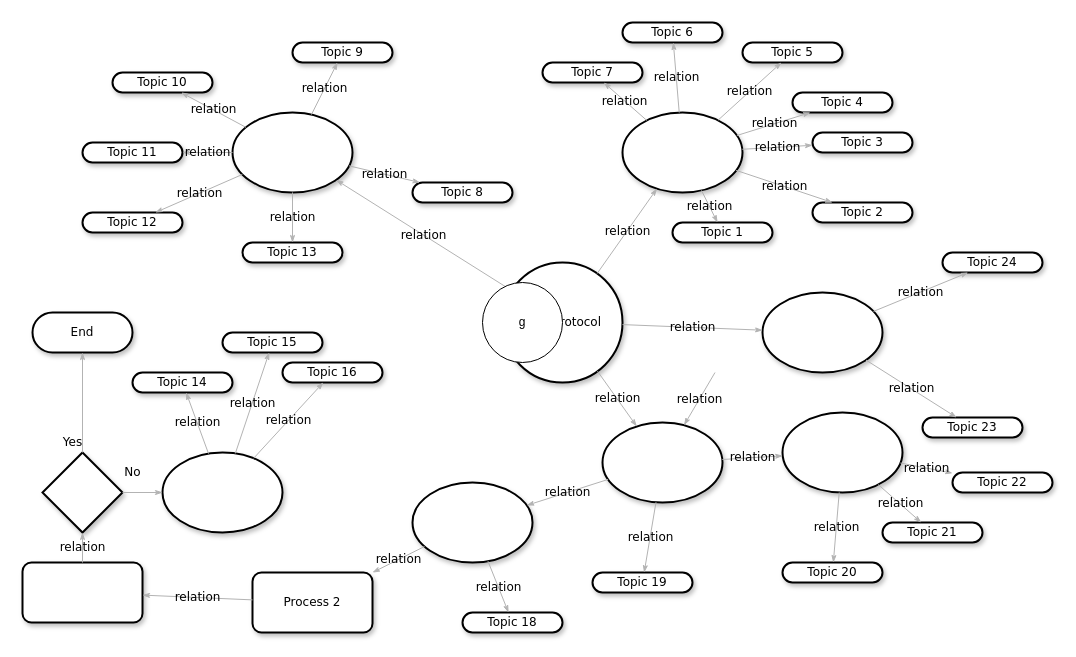
Some shapes in this 1076 by 657 pixel diagram are drawn without their labels. Here are the shapes that lost their labels. From the top down, the centre of each, then its label:
At (293,153): "manufacturing".
At (683,153): "commercialization".
At (823,333): "usage".
At (663,463): "Sub-node 5".
At (843,453): "Sub-node 4".
At (83,493): "Condition".
At (223,493): "Sub-node 7".
At (473,523): "Sub-node 6".
At (83,593): "Process 3".
